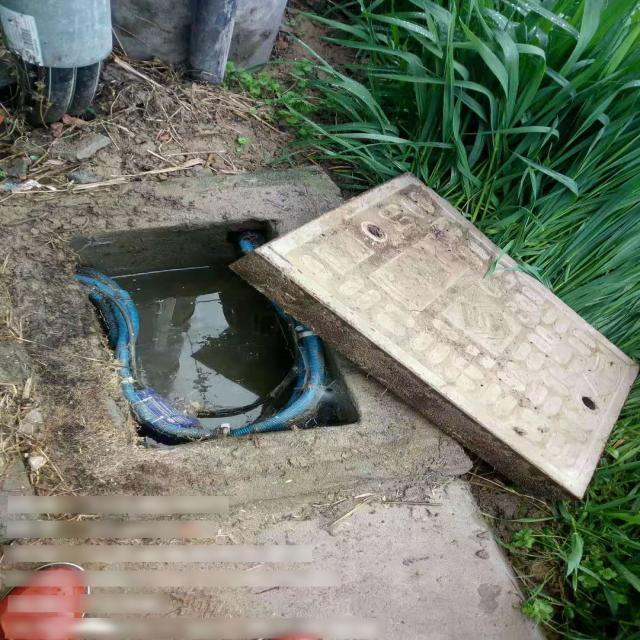Faulty: (5, 165, 639, 510)
